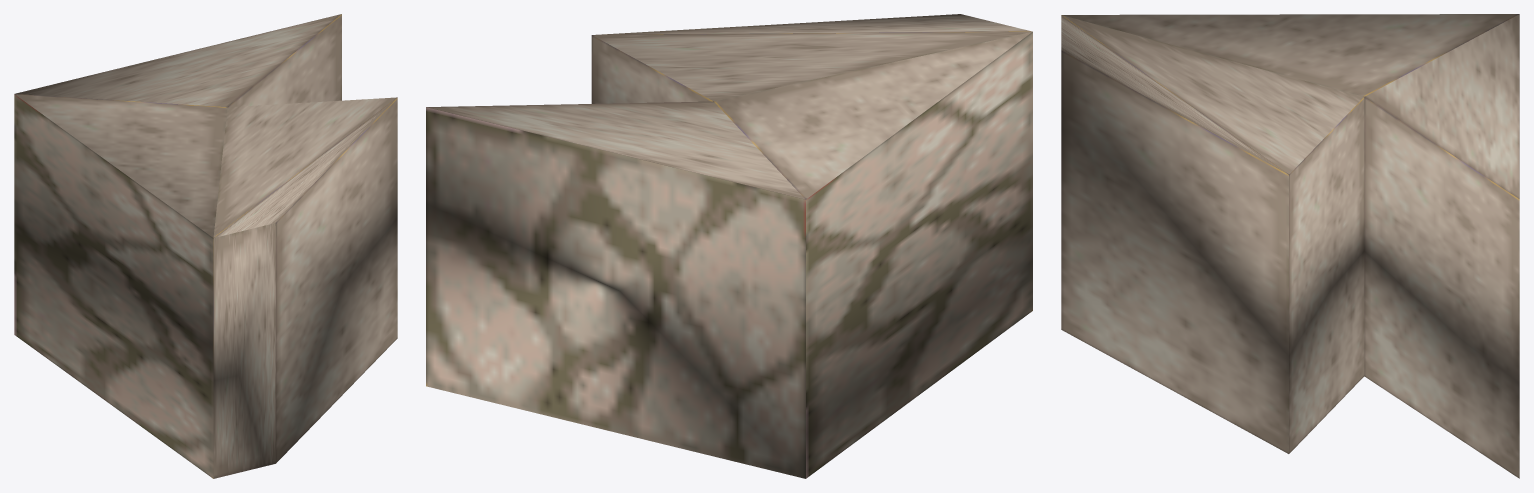
3 views of the same model, side by side, from view 1: azimuth 30°, elevation 25°; view 2: azimuth 150°, elevation 25°; view 3: azimuth 270°, elevation 25° (orthographic). The views are drawn at different scales.
Visible parts, largest first — view 1: T1L8M004_18; view 2: T1L8M004_18; view 3: T1L8M004_18.
Boxes of the visible parts, x1,y1,x2,y2 form: T1L8M004_18: (14, 14, 397, 478); T1L8M004_18: (426, 14, 1032, 478); T1L8M004_18: (1061, 14, 1519, 478).
Size of the model in its own units: 1.14 by 0.7998 by 1.19.
